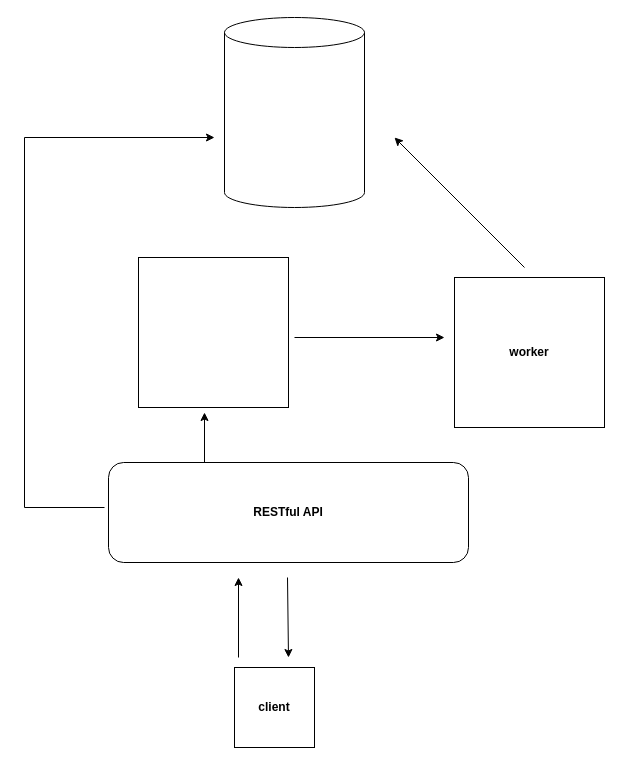
This 622x765 diagram has some shape labels left out. The shapes that lost their labels are listed below. From the top down, each one's centre as x and y in pixels, then its label:
At point (294, 112): "DataBase".
At point (213, 332): "scheduler".
